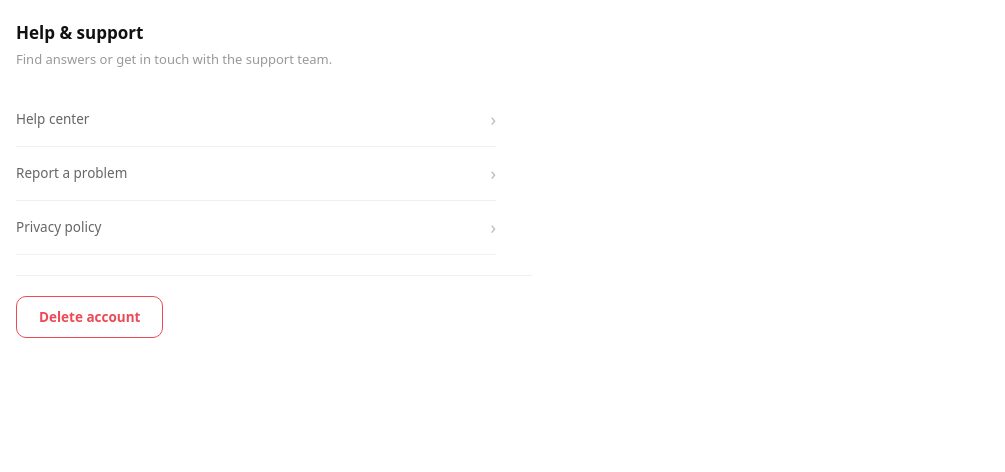
HelpSection › shows the server's error message when deletion fails
Click the button "Delete account".
click(90, 317)  # box [16, 296, 163, 338]
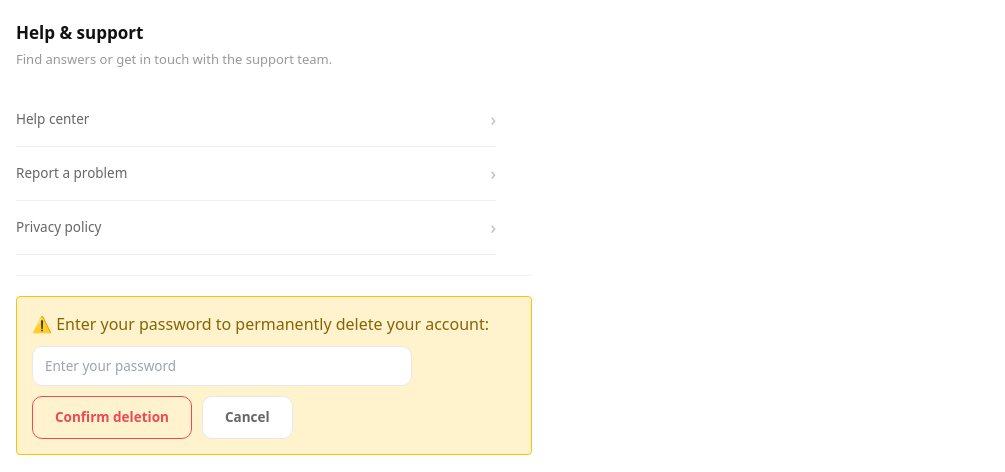
Type "WrongPass" into the password field with placeholder "Enter your password".
click(222, 366); type("WrongPass")  # box [32, 346, 412, 386]
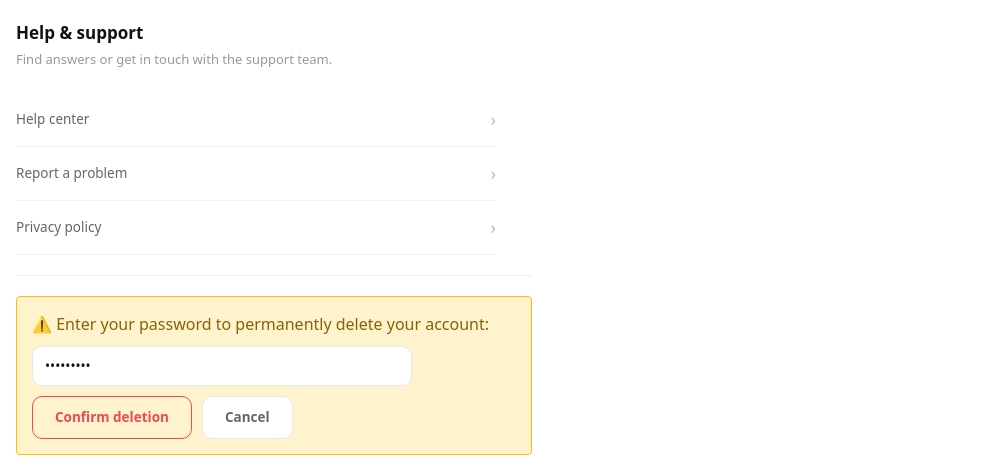
Click the button "Confirm deletion".
click(112, 417)  # box [32, 396, 192, 439]
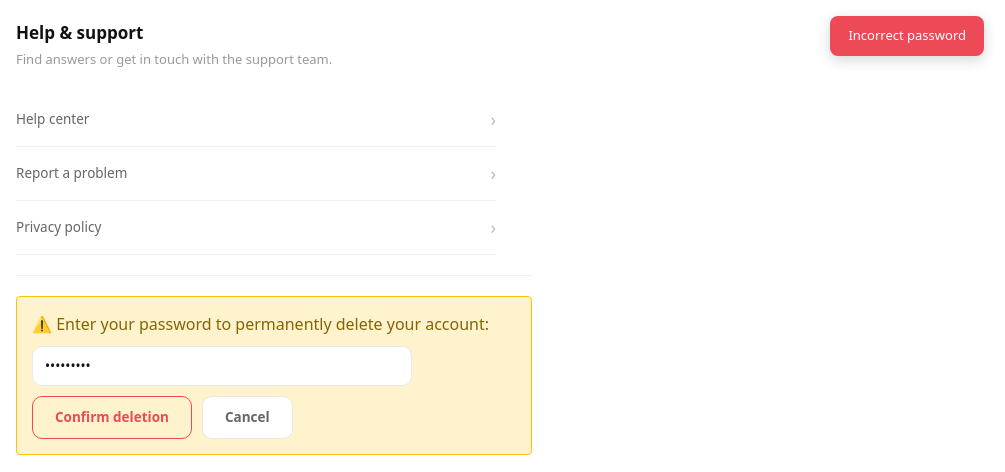
Expected: the text "Incorrect password" is shown, [830, 16, 984, 56]
